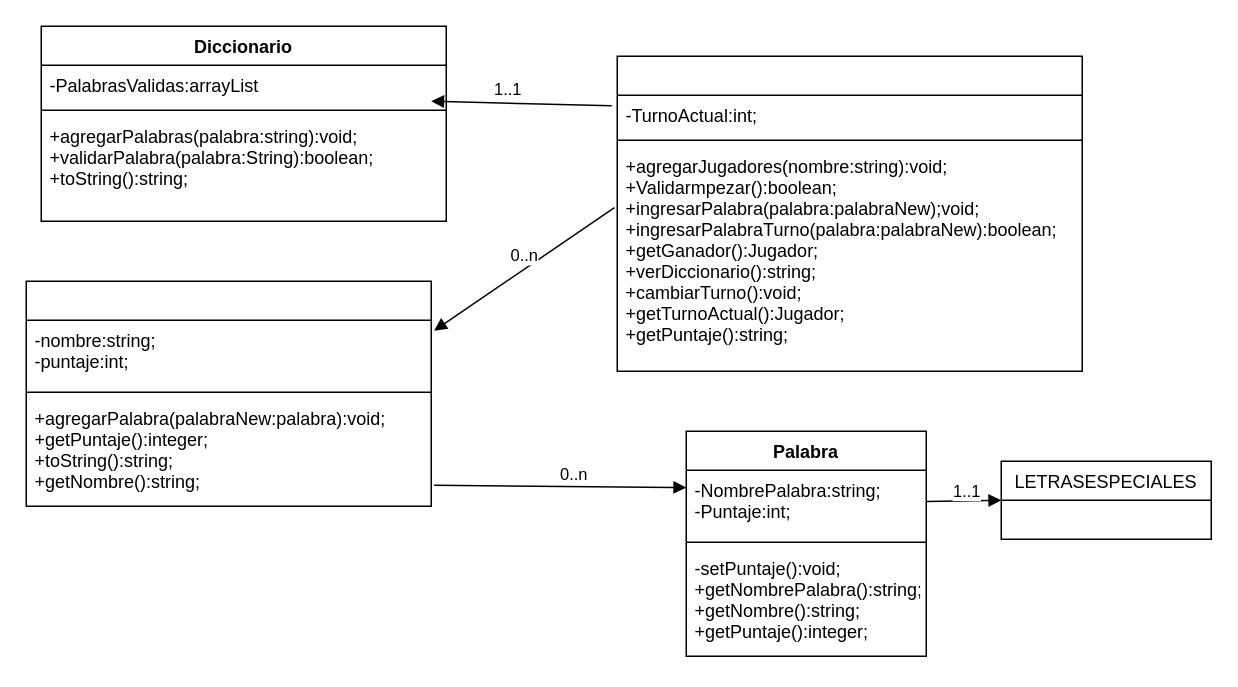
Image size: 1238x687. Some labels were removed from this diagram. The shapes that lost their labels are listed below. From the top down, each one's box as (x1, y1, x2, y2) in pixels, then its label:
(616, 55, 1082, 371): Juego
(25, 280, 431, 506): Jugador
